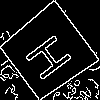H: (23, 26, 81, 83)
